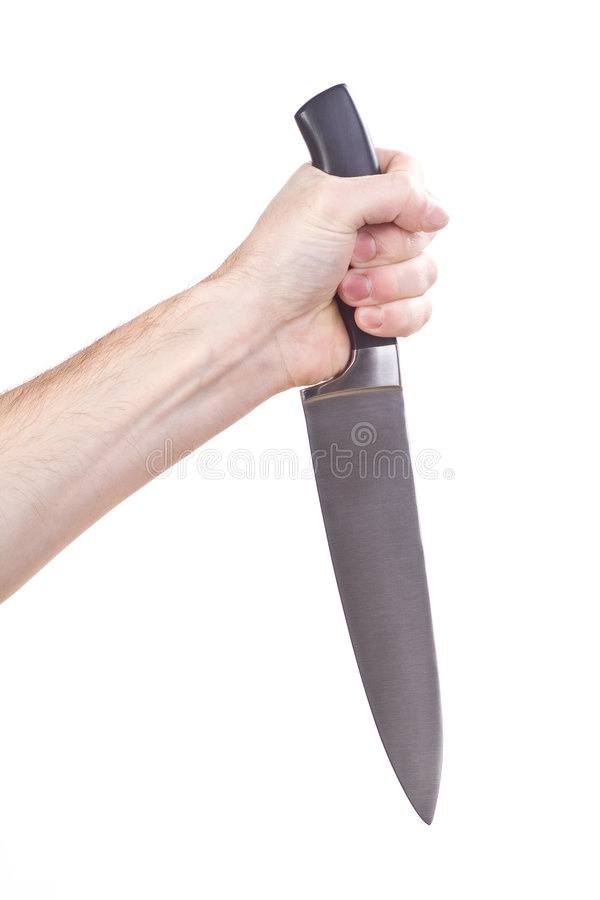knife: (286, 81, 446, 833)
